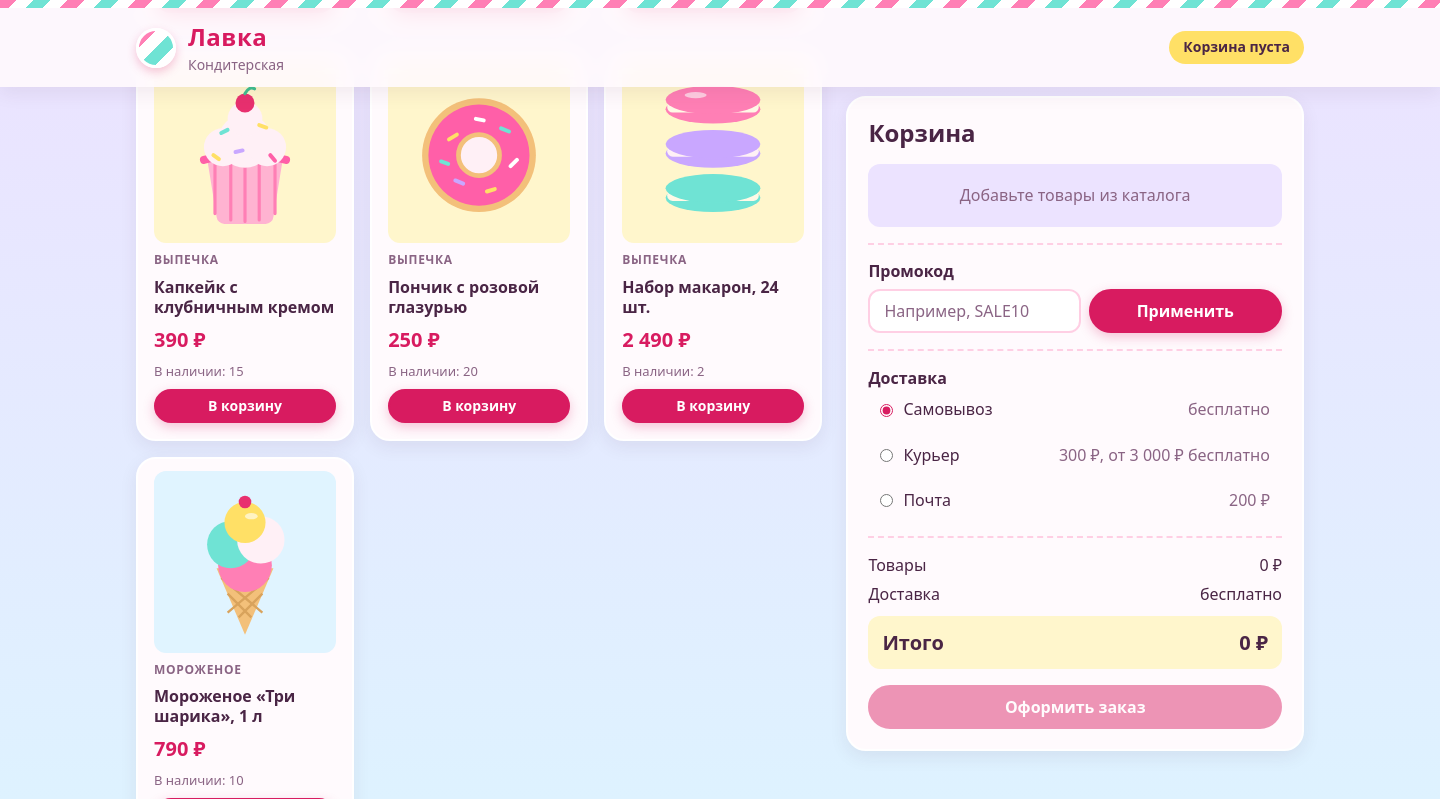
Test: «Лавка» на React 19 › оформляет заказ через модальное окно и очищает корзину
(page scrolled)
Check: the button "Оформить заказ" is disabled, box [868,685,1282,729]
Step 1. Click the button with aria-label "В корзину: Набор макарон, 24 шт." → point(713, 406), box [622,389,804,423]
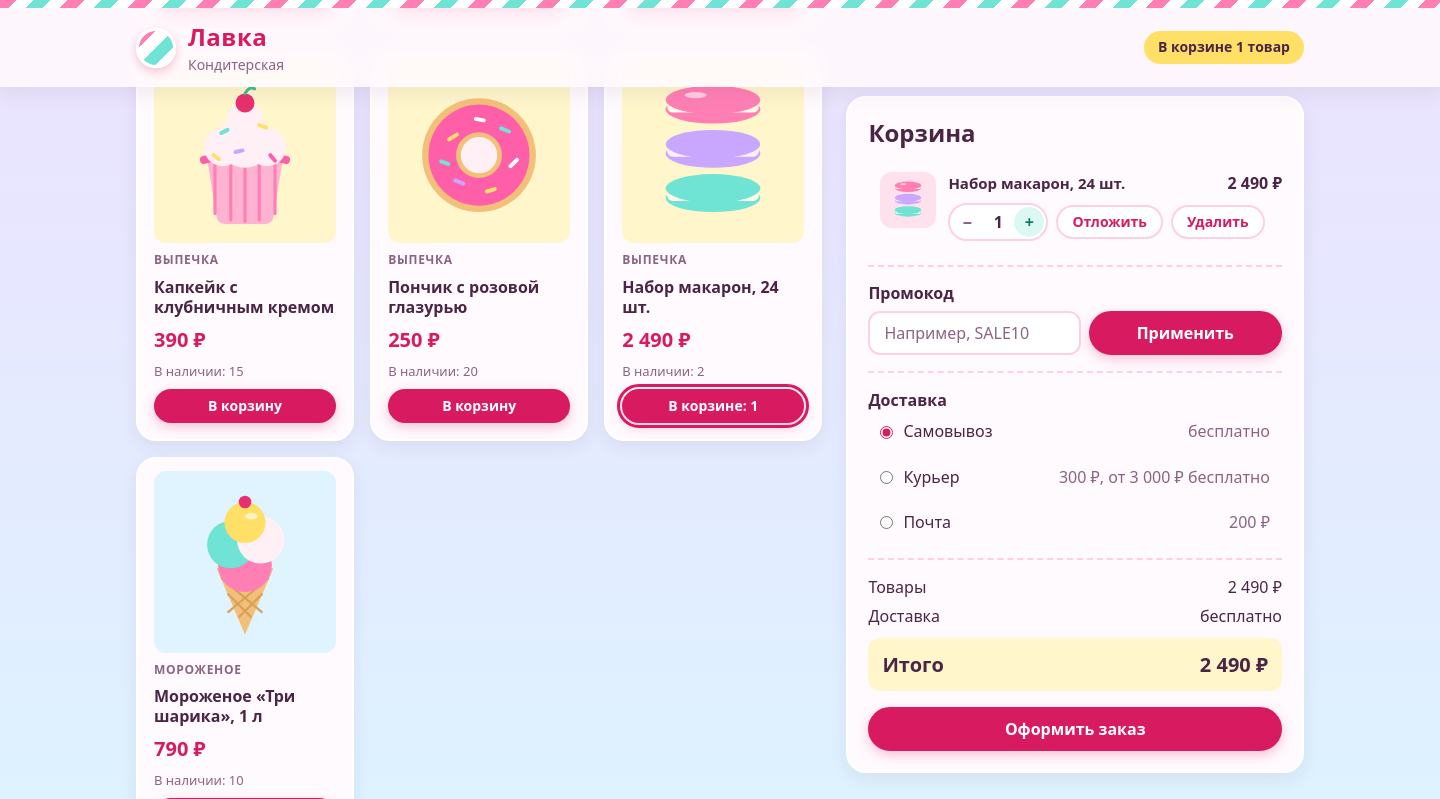
Step 2. Click the button "Оформить заказ" → point(1075, 729), box [868,707,1282,751]
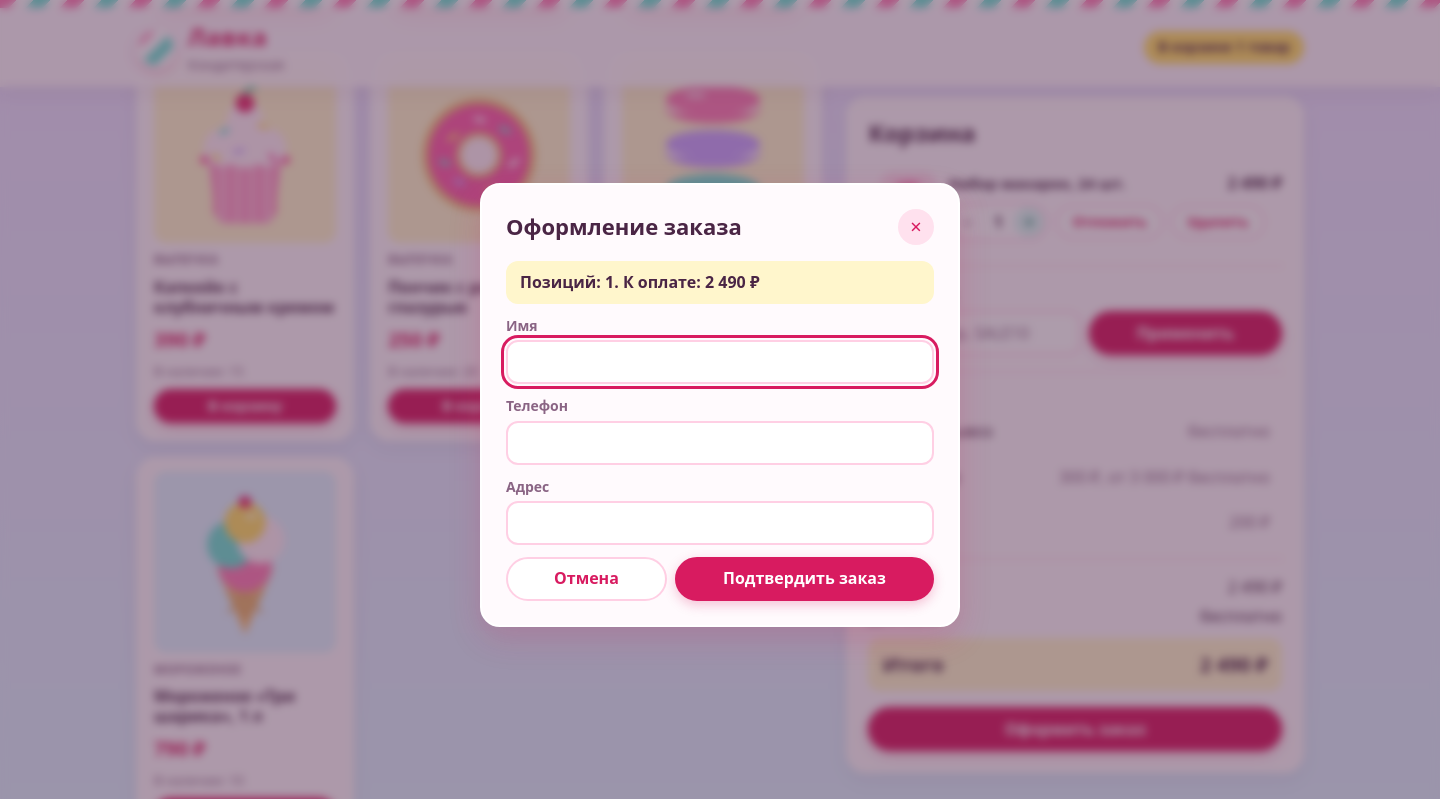
Step 3. Type "Анна" into the field labelled "Имя" → point(720, 362), box [506,340,934,384]
Step 4. Type "+7 900 000-00-00" into the field labelled "Телефон" → point(720, 443), box [506,421,934,465]
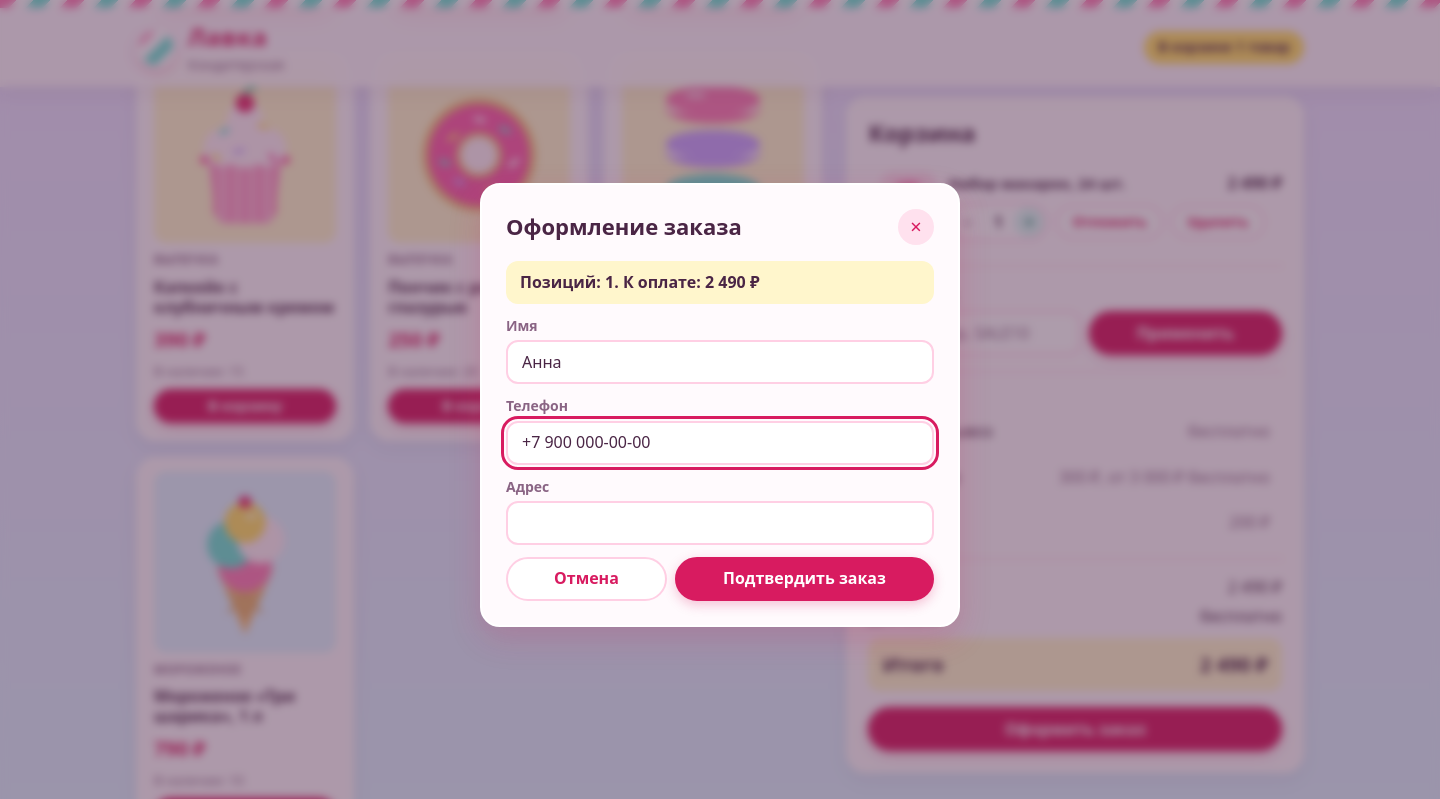
Step 5. Type "Москва, Тверская, 1" into the field labelled "Адрес" → point(720, 523), box [506,501,934,545]
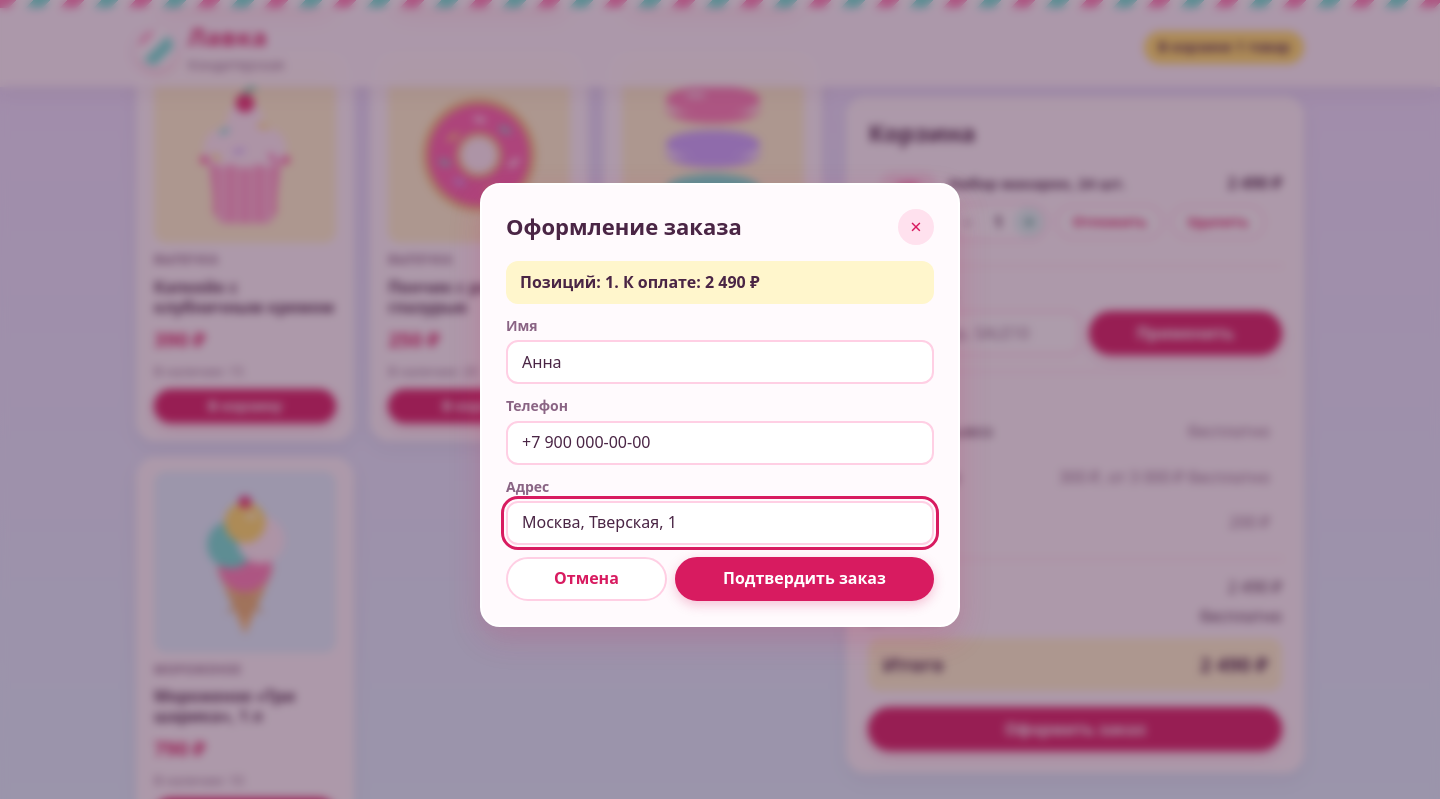
Step 6. Click the button "Подтвердить заказ" → point(804, 579), box [675,557,934,601]
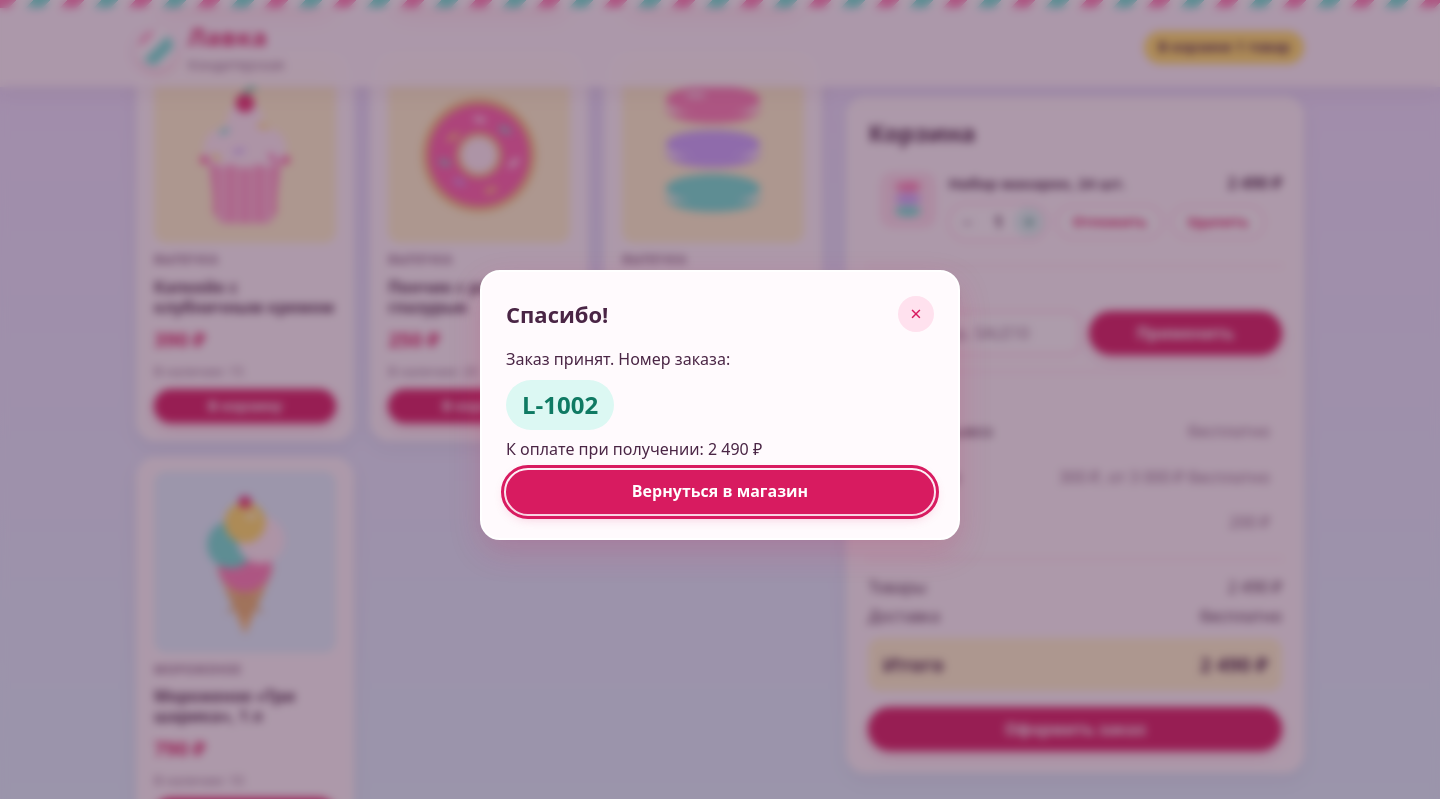
Check: the text "L-1002" is shown, box [506,380,614,430]
Check: the text "К оплате при получении: 2 490 ₽" is shown, box [506,438,762,460]
Step 7. Click the button "Вернуться в магазин" → point(720, 492), box [506,470,934,514]
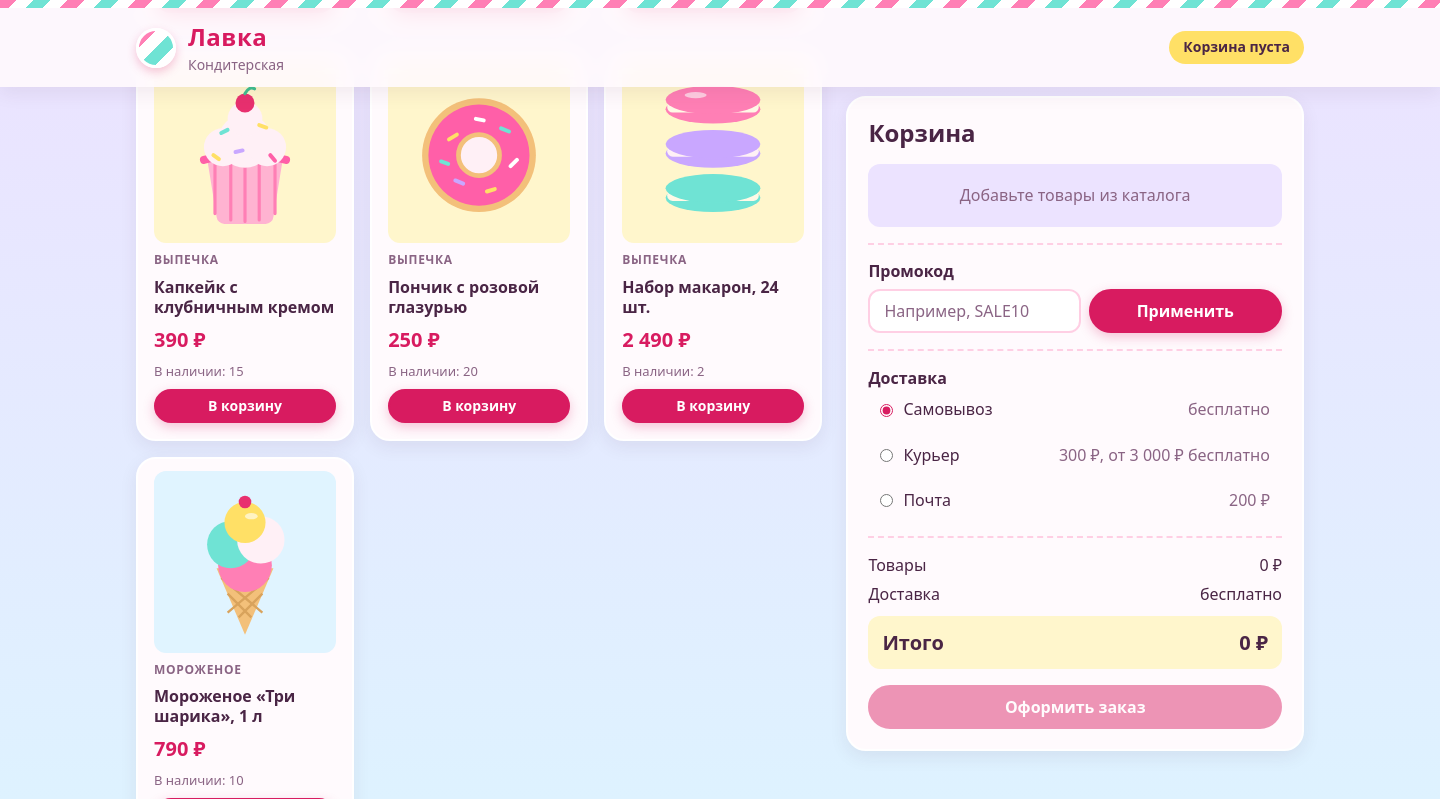
Check: the dialog is gone
Check: the text "Добавьте товары из каталога" is shown, box [868,164,1282,227]
Check: the text "Корзина пуста" is shown, box [1169,31,1304,64]
